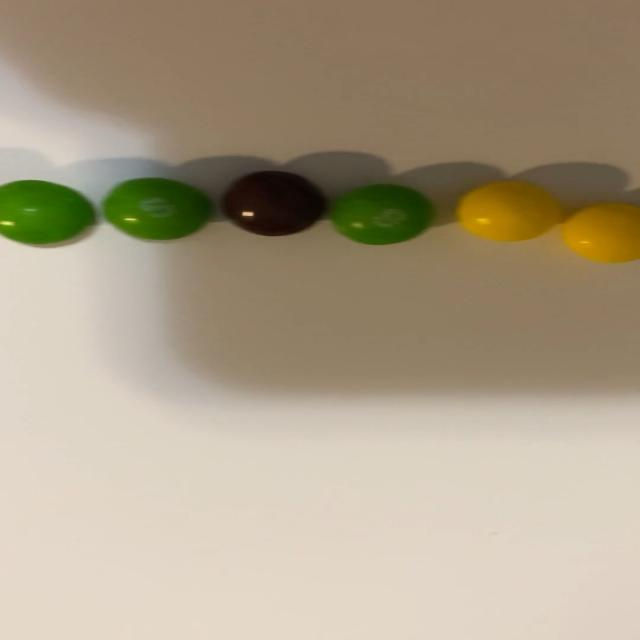smartie: (102, 178, 209, 240), (223, 171, 324, 236), (457, 182, 563, 241), (0, 180, 93, 245), (331, 184, 431, 244), (562, 203, 640, 262)
